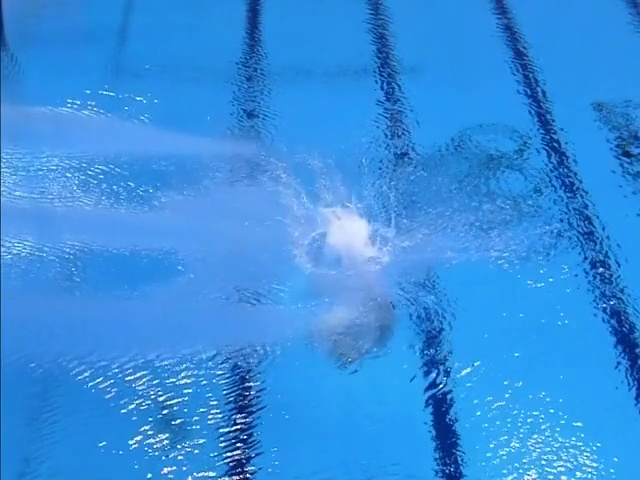splash: (245, 148, 412, 274)
